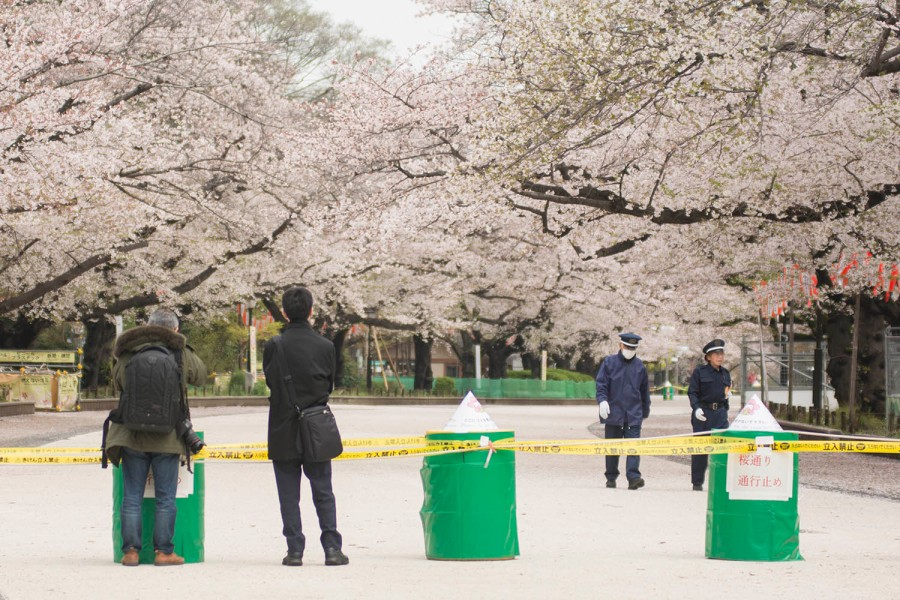Person: (105, 310, 207, 567), (262, 286, 348, 566), (596, 334, 650, 437), (688, 339, 730, 430)
